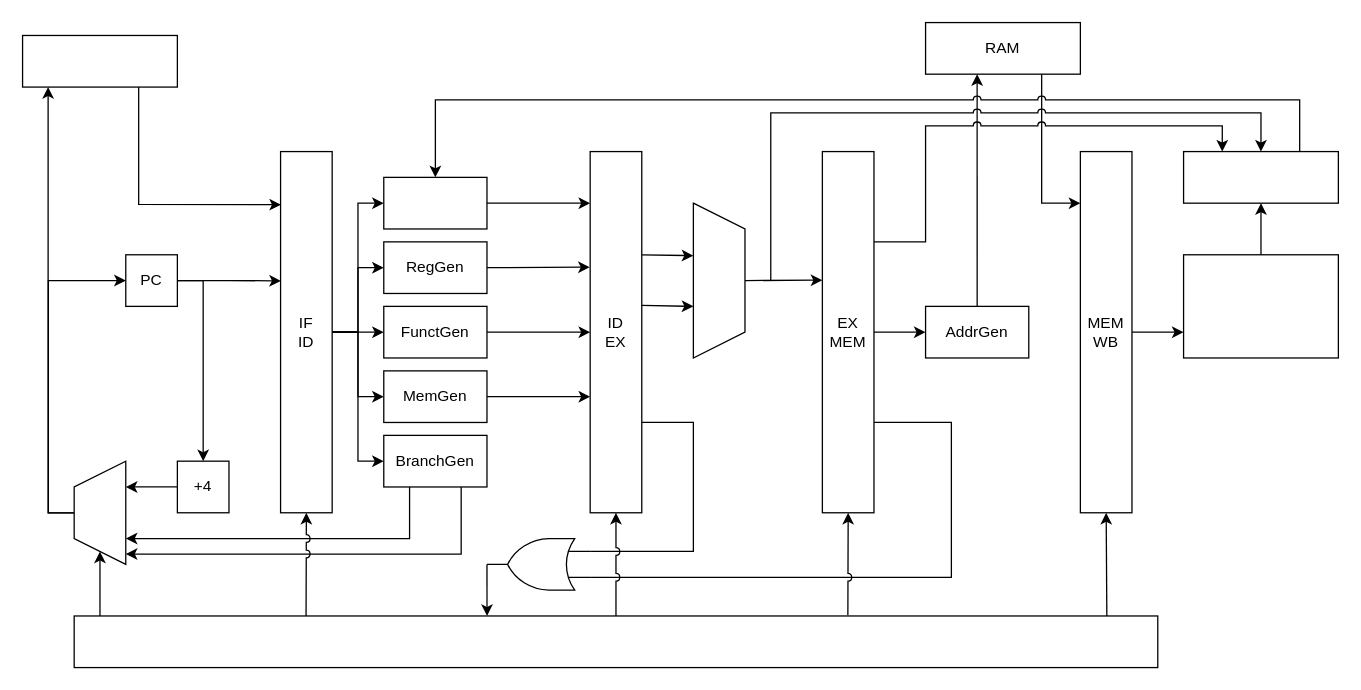
The diagram is 1361 pixels wide and 690 high, and some of its shapes have lost their labels. Each missing label, with the centre of its shape:
"ALU" belongs at (x=718, y=280).
"OperandGen" belongs at (x=434, y=202).
"PipelineController" belongs at (x=615, y=641).
"ReadProxy" belongs at (x=1260, y=176).
"RegFile" belongs at (x=1260, y=305).
"ROM" belongs at (x=99, y=60).
